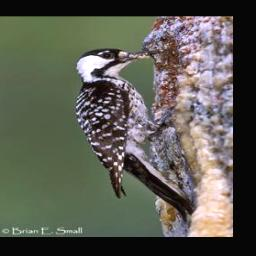Woodpecker: (72, 47, 192, 220)
